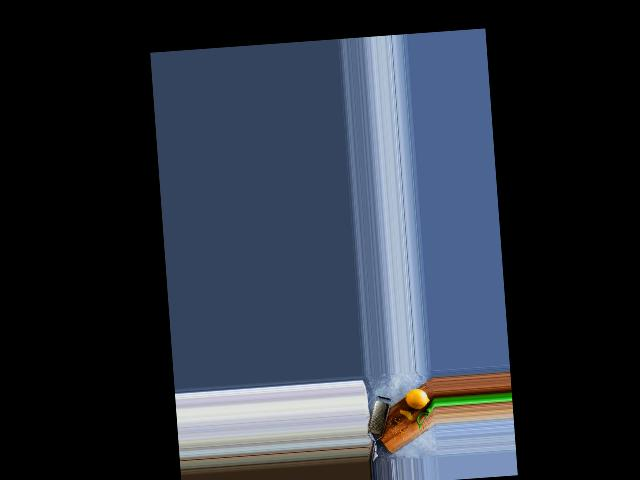lemon: (404, 387, 430, 410)
